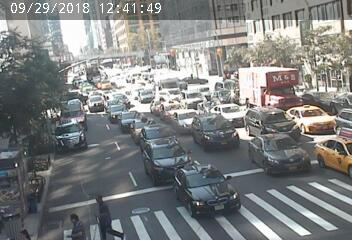car: (235, 65, 303, 109), (176, 166, 238, 200), (252, 136, 308, 165), (150, 65, 184, 99), (290, 106, 330, 132), (196, 115, 234, 140), (218, 103, 261, 124), (246, 114, 294, 132), (143, 142, 187, 161), (319, 139, 352, 163), (59, 104, 91, 122), (138, 126, 176, 141), (55, 123, 85, 141), (155, 101, 180, 117), (179, 88, 201, 103), (120, 110, 141, 123), (175, 109, 197, 120), (107, 103, 126, 115), (138, 87, 156, 98), (132, 120, 145, 132), (97, 80, 112, 89), (89, 95, 98, 101), (102, 99, 114, 102)
